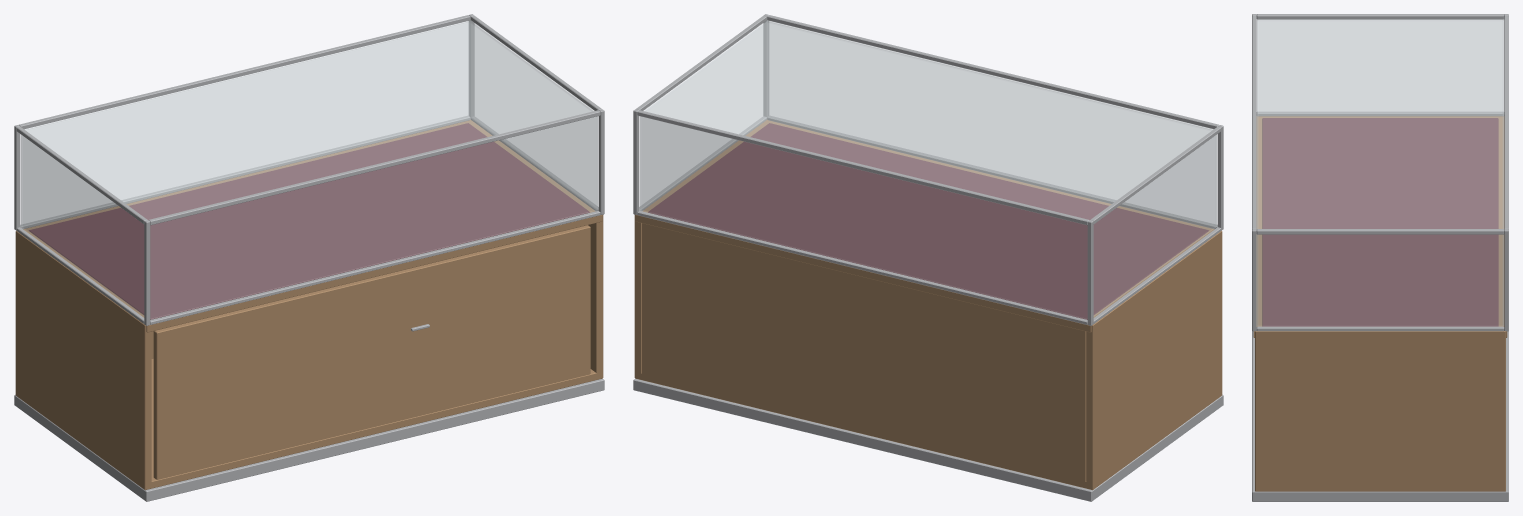
File: prop_display_case_01.glb
The picture shows the model from 3 angles, left to right: view 1: azimuth 30°, elevation 25°; view 2: azimuth 150°, elevation 25°; view 3: azimuth 270°, elevation 25°; orthographic projection. The views are drawn at different scales.
Parts seen in each view (by area): view 1: prop_display_case_01; view 2: prop_display_case_01; view 3: prop_display_case_01.
Boxes of the visible parts, x1,y1,x2,y2 form: prop_display_case_01: [14, 14, 604, 501]; prop_display_case_01: [633, 14, 1223, 501]; prop_display_case_01: [1252, 14, 1508, 501].
Bounding box in the file's own units: 1.8 × 1.05 × 0.9.
